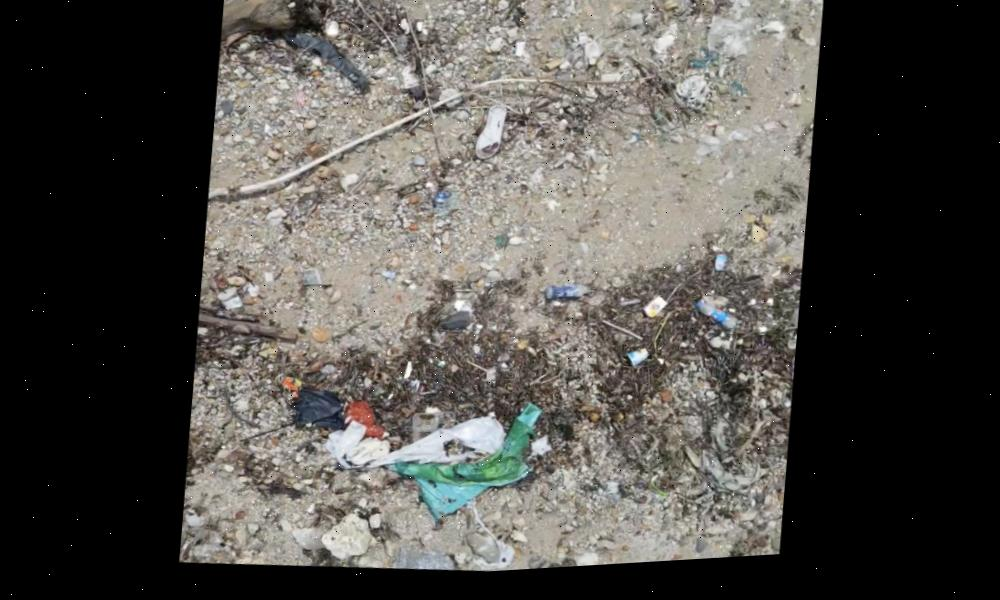plastic bag: (322, 408, 529, 527), (232, 8, 381, 109), (693, 0, 789, 77), (385, 534, 472, 580)
plastic bottle: (696, 310, 737, 337), (542, 288, 589, 311)
